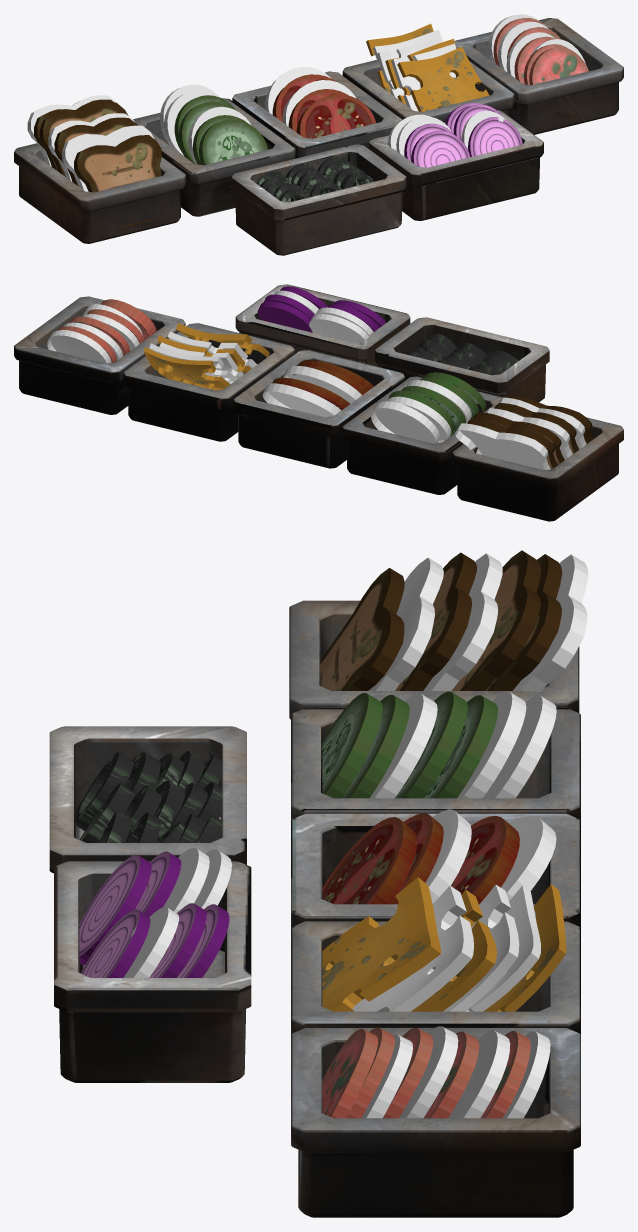
Rendered from conteiner_with_foods.fbx.
3 renders of one model, top to bottom at view 1: azimuth 30°, elevation 25°; view 2: azimuth 150°, elevation 25°; view 3: azimuth 270°, elevation 25°, orthographic. The views are drawn at different scales.
Parts seen in each view (by area): view 1: Cube, Cube.010, Cylinder.011, Cylinder.018, Cylinder.015, Plane.006, Cube.016; view 2: Cube, Plane.006, Cube.016, Cylinder.018, Cylinder.015, Cube.010, Cylinder.011; view 3: Cylinder.018, Cylinder.011, Cube, Plane.006, Cylinder.015, Cube.016, Cube.010.
Boxes of the visible parts, x1,y1,x2,y2 form: Cube: (14,95,185,243); Cube.010: (231,144,406,255); Cylinder.011: (369,103,543,220); Cylinder.018: (454,14,623,134); Cylinder.015: (133,84,295,216); Plane.006: (342,23,514,121); Cube.016: (232,66,402,158); Cube: (452,396,623,521); Plane.006: (123,323,294,441); Cube.016: (233,350,404,468); Cylinder.018: (14,296,185,414); Cylinder.015: (342,372,502,494); Cube.010: (375,317,549,402); Cylinder.011: (235,284,410,366); Cylinder.018: (291,1026,580,1217); Cylinder.011: (54,848,251,1082); Cube: (289,550,588,719); Plane.006: (291,877,580,1034); Cylinder.015: (291,691,580,820); Cube.016: (291,809,580,927); Cube.010: (49,726,246,873).
Bounding box in the file's own units: 390 × 58.28 × 167.
